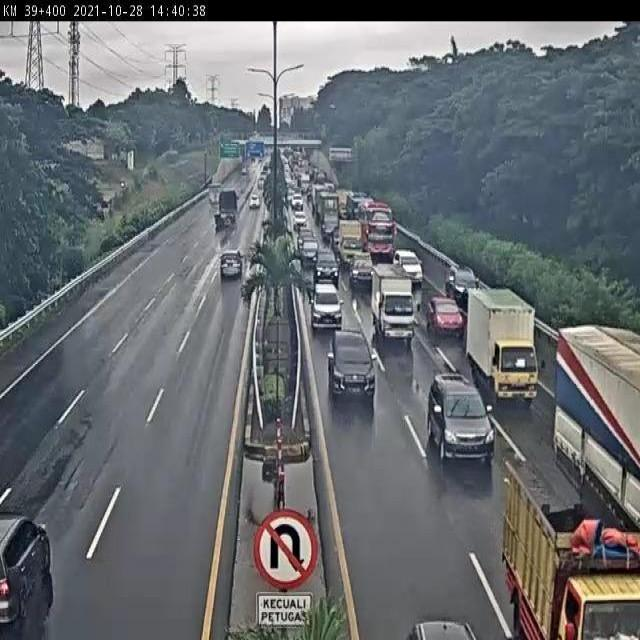car: (429, 372, 497, 460), (326, 329, 375, 396), (310, 280, 343, 331), (426, 288, 459, 333), (447, 264, 482, 300), (395, 248, 425, 288), (349, 250, 376, 286), (313, 249, 339, 283), (219, 247, 246, 277)
truck-l-: (558, 322, 640, 562)
truck-m-: (502, 468, 640, 640), (468, 287, 537, 400)
truck-s-: (371, 265, 415, 344)
